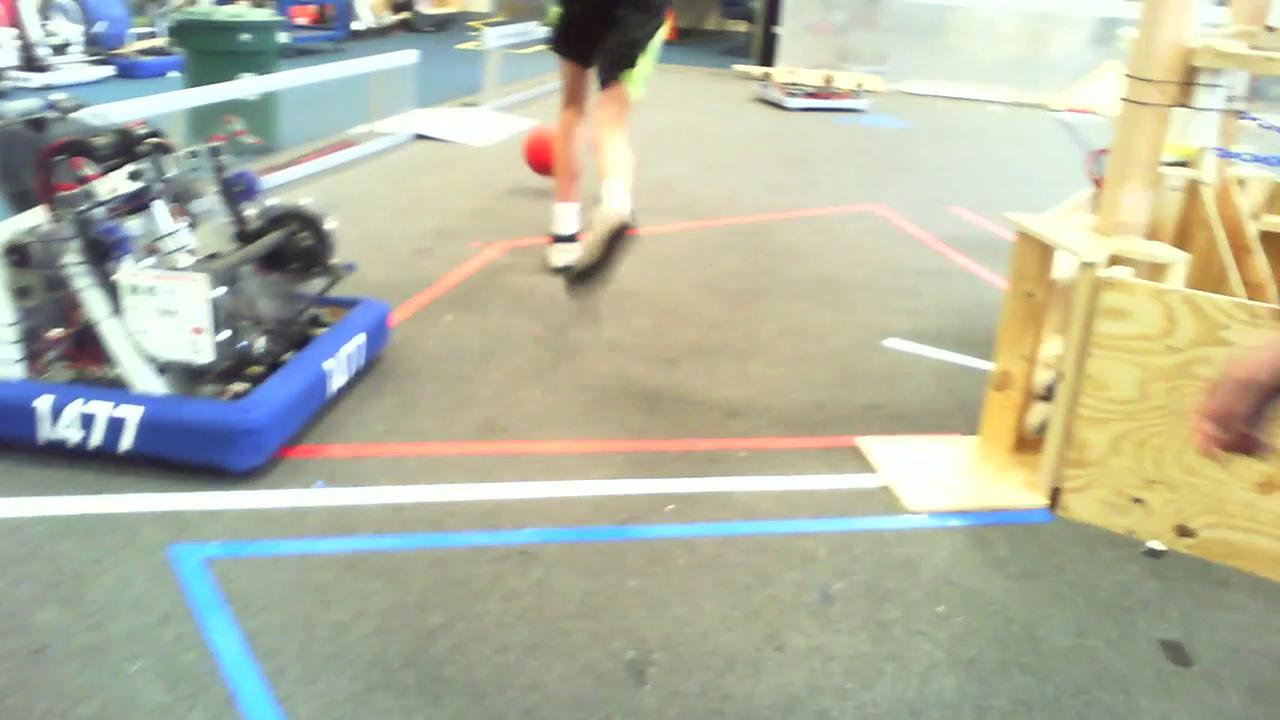Red_Ball: (521, 115, 561, 182)
